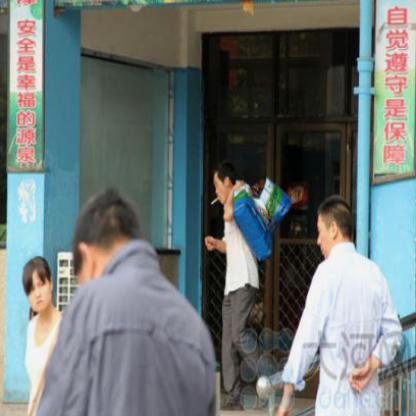cigarette: (210, 197, 219, 205)
person: (51, 198, 220, 415), (298, 194, 392, 416), (204, 162, 282, 406), (20, 258, 58, 342)
